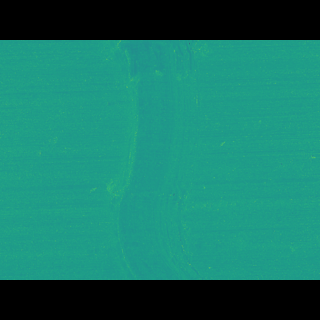Loch: (92, 68, 218, 250)
